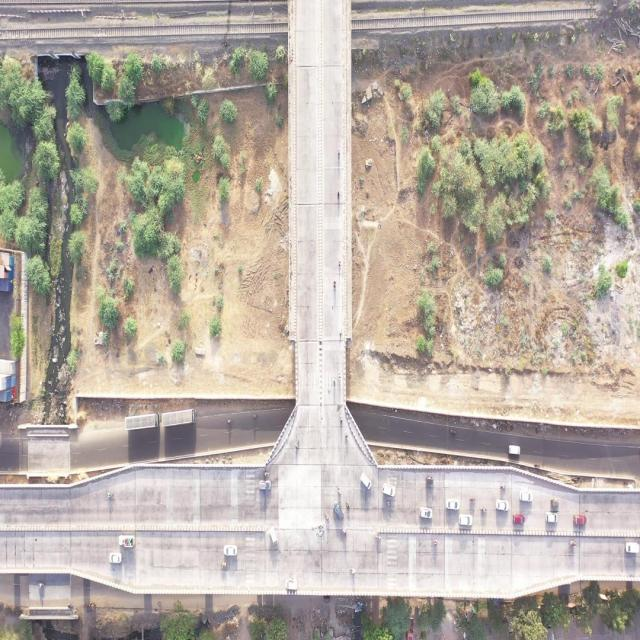3W: (425, 476, 435, 493), (87, 601, 97, 614), (549, 498, 560, 509), (321, 595, 331, 603)
Bus: (124, 412, 160, 432), (162, 408, 197, 428)
Cars: (268, 525, 280, 547), (333, 499, 345, 521), (360, 471, 373, 491), (108, 550, 123, 566), (382, 482, 397, 498), (445, 497, 460, 512), (495, 498, 510, 513), (625, 540, 640, 555), (285, 575, 299, 591), (458, 513, 474, 527), (518, 489, 534, 503), (223, 543, 238, 557), (419, 505, 433, 520), (545, 509, 559, 524), (573, 513, 588, 526), (508, 443, 521, 458), (512, 512, 526, 525), (259, 479, 272, 492)
LCV: (117, 534, 137, 549)
M2W: (336, 187, 341, 209), (343, 430, 350, 443), (341, 525, 348, 537), (567, 539, 576, 548), (374, 534, 383, 543), (106, 491, 116, 499), (345, 498, 351, 511), (294, 438, 300, 451), (338, 327, 342, 346), (333, 278, 337, 297), (336, 484, 342, 496), (498, 482, 507, 490), (431, 538, 440, 546), (337, 260, 342, 274), (332, 372, 336, 389), (338, 369, 342, 385), (219, 561, 228, 568), (348, 567, 357, 574), (324, 512, 330, 522), (384, 500, 392, 507), (226, 418, 234, 425), (337, 146, 340, 163), (469, 497, 476, 504), (480, 506, 487, 513), (263, 471, 270, 478), (340, 414, 343, 427), (451, 429, 457, 435), (534, 462, 540, 468), (38, 582, 45, 587), (67, 602, 74, 607)
